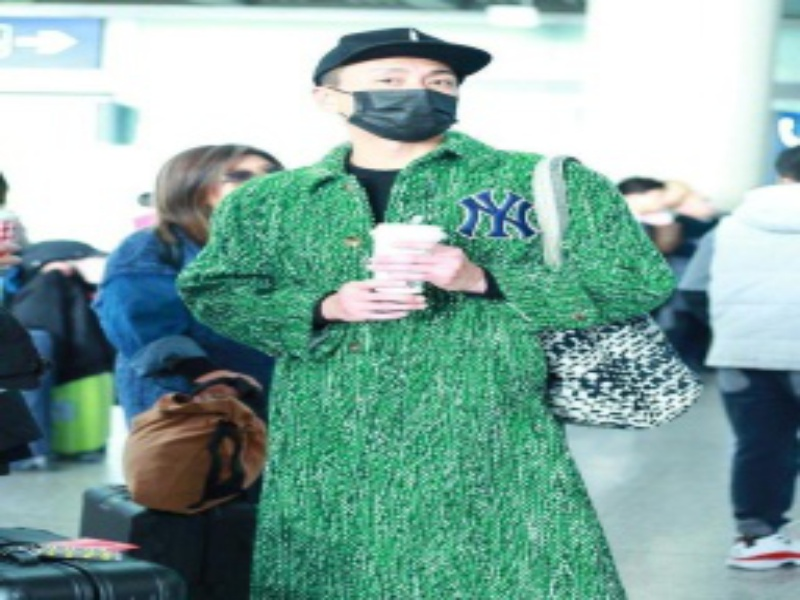ManaoArotava: (312, 22, 498, 179)
